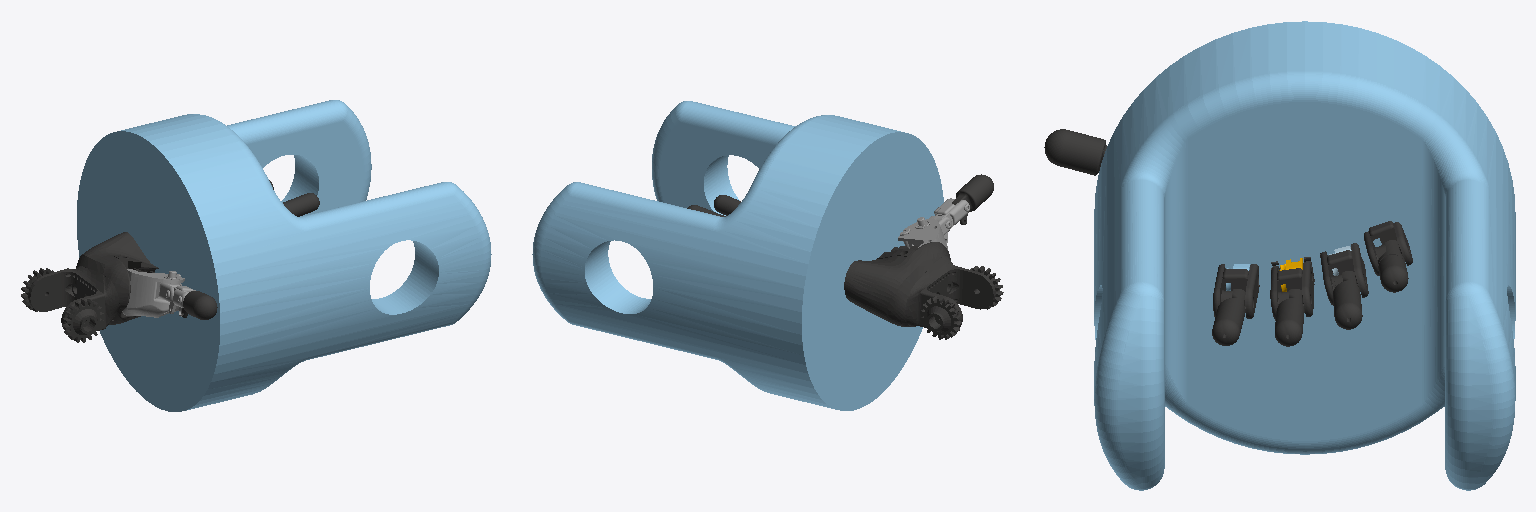
--- Facts derived from the render (not from the file) ---
The picture shows the robot from 3 angles, left to right: view 1: azimuth 30°, elevation 25°; view 2: azimuth 150°, elevation 25°; view 3: azimuth 270°, elevation 25°; orthographic projection.
Robot: [local-path]\Documents\NU robotics hand\hand teleop\hand_urdf — 20 links, 19 joints (19 revolute); root link base; default pose: all joints at 0.
Links seen in each view (by area): view 1: base, palm_solid, thumb_palm_section, thumb_tip, large_finger_tip; view 2: base, palm_solid, thumb_tip, thumb_palm_section, thumb_middle_2; view 3: base, thumb_tip, hand_v2_index_finger_tip_v1, large_finger_tip, hand_v2_middle_finger_tip_v1, hand_v2_index_finger_middle_v1, hand_v2_middle_finger_middle_v1, large_finger_middle, pinky_finger_tip, pinky_finger_middle.
Link boxes in pixels (x1=…): base: x1=77, y1=100, x2=491, y2=411; palm_solid: x1=21, y1=232, x2=158, y2=342; thumb_palm_section: x1=122, y1=269, x2=184, y2=317; thumb_tip: x1=182, y1=291, x2=217, y2=319; large_finger_tip: x1=283, y1=193, x2=319, y2=216; base: x1=532, y1=101, x2=943, y2=410; palm_solid: x1=844, y1=242, x2=1003, y2=339; thumb_tip: x1=952, y1=174, x2=993, y2=224; thumb_palm_section: x1=898, y1=219, x2=947, y2=249; thumb_middle_2: x1=933, y1=198, x2=969, y2=243; base: x1=1094, y1=21, x2=1515, y2=490; thumb_tip: x1=1044, y1=129, x2=1106, y2=175; hand_v2_index_finger_tip_v1: x1=1212, y1=289, x2=1245, y2=345; large_finger_tip: x1=1331, y1=271, x2=1362, y2=329; hand_v2_middle_finger_tip_v1: x1=1275, y1=289, x2=1304, y2=346; hand_v2_index_finger_middle_v1: x1=1213, y1=264, x2=1259, y2=318; hand_v2_middle_finger_middle_v1: x1=1270, y1=262, x2=1314, y2=320; large_finger_middle: x1=1320, y1=243, x2=1368, y2=304; pinky_finger_tip: x1=1374, y1=240, x2=1408, y2=292; pinky_finger_middle: x1=1364, y1=221, x2=1412, y2=275.
Size in the robot's own frame: 0.2771 by 0.2013 by 0.18 metres.
Meshes: 20 distinct files referenced, 19 mesh visuals loaded (19 binary STL); not drawn: 1 (reference not matched to a file when rendering).

The robot description file, URDF, robot "[local-path]\Documents\NU robotics hand\hand teleop\hand_urdf":
<?xml version="1.0" ?>
<!-- Generated using onshape-to-robot -->
<!-- Onshape https://cad.onshape.com/documents/435b824f8426b3b8f2a8a9e0/w/f13a2bb43b056c76b67cc2b3/e/86f1e349b89a5f0b7c9e231f -->
<robot name="[local-path]\Documents\NU robotics hand\hand teleop\hand_urdf">
  <!-- Link base -->
  <link name="base">
    <inertial>
      <origin xyz="0 0 0" rpy="0 0 0"/>
      <mass value="1e-09"/>
      <inertia ixx="1e-09" ixy="0" ixz="0" iyy="1e-09" iyz="0" izz="1e-09"/>
    </inertial>
    <!-- Part base -->
    <visual>
      <origin xyz="0.0161891 0.00137668 0.00812779" rpy="-3.42121e-30 1.60982e-15 -1.5708"/>
      <geometry>
        <mesh filename="package://assets\base.stl"/>
      </geometry>
      <material name="base_material">
        <color rgba="0.615686 0.811765 0.929412 1"/>
      </material>
    </visual>
    <collision>
      <origin xyz="0.0161891 0.00137668 0.00812779" rpy="-3.42121e-30 1.60982e-15 -1.5708"/>
      <geometry>
        <mesh filename="package://assets\base.stl"/>
      </geometry>
    </collision>
  </link>
  <!-- Link intermediate_link -->
  <link name="intermediate_link">
    <inertial>
      <origin xyz="0 0 0" rpy="0 0 0"/>
      <mass value="1e-09"/>
      <inertia ixx="1e-09" ixy="0" ixz="0" iyy="1e-09" iyz="0" izz="1e-09"/>
    </inertial>
    <!-- Part intermediate_link -->
    <visual>
      <origin xyz="0.0682324 -0.00935237 0.0358367" rpy="1.58872 1.5708 0"/>
      <geometry>
        <mesh filename="package://assets\intermediate_link.stl"/>
      </geometry>
      <material name="intermediate_link_material">
        <color rgba="0.980392 0.713725 0.00392157 1"/>
      </material>
    </visual>
    <collision>
      <origin xyz="0.0682324 -0.00935237 0.0358367" rpy="1.58872 1.5708 0"/>
      <geometry>
        <mesh filename="package://assets\intermediate_link.stl"/>
      </geometry>
    </collision>
  </link>
  <!-- Link palm_solid -->
  <link name="palm_solid">
    <inertial>
      <origin xyz="0 0 0" rpy="0 0 0"/>
      <mass value="1e-09"/>
      <inertia ixx="1e-09" ixy="0" ixz="0" iyy="1e-09" iyz="0" izz="1e-09"/>
    </inertial>
    <!-- Part palm_solid -->
    <visual>
      <origin xyz="0.0430364 0.00890065 -0.0355367" rpy="-1.55287 -1.5708 0"/>
      <geometry>
        <mesh filename="package://assets\palm_solid.stl"/>
      </geometry>
      <material name="palm_solid_material">
        <color rgba="0.27451 0.270588 0.266667 1"/>
      </material>
    </visual>
    <collision>
      <origin xyz="0.0430364 0.00890065 -0.0355367" rpy="-1.55287 -1.5708 0"/>
      <geometry>
        <mesh filename="package://assets\palm_solid.stl"/>
      </geometry>
    </collision>
  </link>
  <!-- Link thumb_intermediate_v1 -->
  <link name="thumb_intermediate_v1">
    <inertial>
      <origin xyz="0 0 0" rpy="0 0 0"/>
      <mass value="1e-09"/>
      <inertia ixx="1e-09" ixy="0" ixz="0" iyy="1e-09" iyz="0" izz="1e-09"/>
    </inertial>
    <!-- Part thumb_intermediate_v1 -->
    <visual>
      <origin xyz="-0.00989613 -0.00238569 0.000259753" rpy="-1.31743 0.17263 7.86009e-18"/>
      <geometry>
        <mesh filename="package://assets\thumb_intermediate_v1.stl"/>
      </geometry>
      <material name="thumb_intermediate_v1_material">
        <color rgba="0.27451 0.270588 0.266667 1"/>
      </material>
    </visual>
    <collision>
      <origin xyz="-0.00989613 -0.00238569 0.000259753" rpy="-1.31743 0.17263 7.86009e-18"/>
      <geometry>
        <mesh filename="package://assets\thumb_intermediate_v1.stl"/>
      </geometry>
    </collision>
  </link>
  <!-- Link thumb_palm_section -->
  <link name="thumb_palm_section">
    <inertial>
      <origin xyz="0 0 0" rpy="0 0 0"/>
      <mass value="1e-09"/>
      <inertia ixx="1e-09" ixy="0" ixz="0" iyy="1e-09" iyz="0" izz="1e-09"/>
    </inertial>
    <!-- Part thumb_palm_section -->
    <visual>
      <origin xyz="-0.0217843 0.00434121 0.000740247" rpy="1.82417 -0.17263 -1.26524e-17"/>
      <geometry>
        <mesh filename="package://assets\thumb_palm_section.stl"/>
      </geometry>
      <material name="thumb_palm_section_material">
        <color rgba="0.627451 0.627451 0.627451 1"/>
      </material>
    </visual>
    <collision>
      <origin xyz="-0.0217843 0.00434121 0.000740247" rpy="1.82417 -0.17263 -1.26524e-17"/>
      <geometry>
        <mesh filename="package://assets\thumb_palm_section.stl"/>
      </geometry>
    </collision>
  </link>
  <!-- Link thumb_middle -->
  <link name="thumb_middle">
    <inertial>
      <origin xyz="0 0 0" rpy="0 0 0"/>
      <mass value="1e-09"/>
      <inertia ixx="1e-09" ixy="0" ixz="0" iyy="1e-09" iyz="0" izz="1e-09"/>
    </inertial>
    <!-- Part thumb_middle -->
    <visual>
      <origin xyz="-0.0477856 -0.00705829 -0.00679029" rpy="0.273385 0.114287 1.41009e-17"/>
      <geometry>
        <mesh filename="package://assets\thumb_middle.stl"/>
      </geometry>
      <material name="thumb_middle_material">
        <color rgba="0.627451 0.627451 0.627451 1"/>
      </material>
    </visual>
    <collision>
      <origin xyz="-0.0477856 -0.00705829 -0.00679029" rpy="0.273385 0.114287 1.41009e-17"/>
      <geometry>
        <mesh filename="package://assets\thumb_middle.stl"/>
      </geometry>
    </collision>
  </link>
  <!-- Link thumb_middle_2 -->
  <link name="thumb_middle_2">
    <inertial>
      <origin xyz="0 0 0" rpy="0 0 0"/>
      <mass value="1e-09"/>
      <inertia ixx="1e-09" ixy="0" ixz="0" iyy="1e-09" iyz="0" izz="1e-09"/>
    </inertial>
    <!-- Part thumb_middle_2 -->
    <visual>
      <origin xyz="-0.0592938 -0.00820927 0.0104142" rpy="-1.31743 0.17263 -1.14344e-17"/>
      <geometry>
        <mesh filename="package://assets\thumb_middle__2.stl"/>
      </geometry>
      <material name="thumb_middle_2_material">
        <color rgba="0.647059 0.647059 0.647059 1"/>
      </material>
    </visual>
    <collision>
      <origin xyz="-0.0592938 -0.00820927 0.0104142" rpy="-1.31743 0.17263 -1.14344e-17"/>
      <geometry>
        <mesh filename="package://assets\thumb_middle__2.stl"/>
      </geometry>
    </collision>
  </link>
  <!-- Link thumb_tip -->
  <link name="thumb_tip">
    <inertial>
      <origin xyz="0 0 0" rpy="0 0 0"/>
      <mass value="1e-09"/>
      <inertia ixx="1e-09" ixy="0" ixz="0" iyy="1e-09" iyz="0" izz="1e-09"/>
    </inertial>
    <!-- Part thumb_tip -->
    <visual>
      <origin xyz="-0.0791251 -0.0108018 0.0122142" rpy="-1.31743 0.17263 -1.92026e-17"/>
      <geometry>
        <mesh filename="package://assets\thumb_tip.stl"/>
      </geometry>
      <material name="thumb_tip_material">
        <color rgba="0.27451 0.270588 0.266667 1"/>
      </material>
    </visual>
    <collision>
      <origin xyz="-0.0791251 -0.0108018 0.0122142" rpy="-1.31743 0.17263 -1.92026e-17"/>
      <geometry>
        <mesh filename="package://assets\thumb_tip.stl"/>
      </geometry>
    </collision>
  </link>
  <!-- Joint from thumb_middle_2 to thumb_tip -->
  <joint name="thumb_4" type="revolute">
    <origin xyz="0.0198655 0.00231518 -0.00175" rpy="7.41283e-15 -1.59703e-14 -1.60298e-15"/>
    <parent link="thumb_middle_2"/>
    <child link="thumb_tip"/>
    <axis xyz="0 0 1"/>
    <limit effort="10" velocity="10" lower="0" upper="1.5708"/>
  </joint>
  <!-- Joint from thumb_middle to thumb_middle_2 -->
  <joint name="thumb_3" type="revolute">
    <origin xyz="0.0128901 -0.0075423 -0.0055" rpy="1.5708 0.115493 -0.173775"/>
    <parent link="thumb_middle"/>
    <child link="thumb_middle_2"/>
    <axis xyz="0 0 1"/>
    <limit effort="10" velocity="10" lower="-0.000526075" upper="1.57027"/>
  </joint>
  <!-- Joint from thumb_palm_section to thumb_middle -->
  <joint name="thumb_abd" type="revolute">
    <origin xyz="0.0230132 -0.00731315 0.0159544" rpy="1.5708 -0.174152 -0.116019"/>
    <parent link="thumb_palm_section"/>
    <child link="thumb_middle"/>
    <axis xyz="0 0 1"/>
    <limit effort="10" velocity="10" lower="-1.57117" upper="0.174156"/>
  </joint>
  <!-- Joint from thumb_intermediate_v1 to thumb_palm_section -->
  <joint name="thumb_2" type="revolute">
    <origin xyz="0.0118882 0.00195552 6.93889e-18" rpy="-3.14159 2.56139e-15 0.0328482"/>
    <parent link="thumb_intermediate_v1"/>
    <child link="thumb_palm_section"/>
    <axis xyz="0 0 1"/>
    <limit effort="10" velocity="10" lower="-3.141592653589793" upper="3.141592653589793"/>
    <mimic joint="thumb_1" multiplier="-1.0"/>
  </joint>
  <!-- Joint from palm_solid to thumb_intermediate_v1 -->
  <joint name="thumb_1" type="revolute">
    <origin xyz="0.0413225 0.0120631 -0.0257823" rpy="-2.95542 -1.3951 2.71713"/>
    <parent link="palm_solid"/>
    <child link="thumb_intermediate_v1"/>
    <axis xyz="0 0 1"/>
    <limit effort="10" velocity="10" lower="-0.0328482" upper="0.75255"/>
  </joint>
  <!-- Link finger_intermediate -->
  <link name="finger_intermediate">
    <inertial>
      <origin xyz="0 0 0" rpy="0 0 0"/>
      <mass value="1e-09"/>
      <inertia ixx="1e-09" ixy="0" ixz="0" iyy="1e-09" iyz="0" izz="1e-09"/>
    </inertial>
    <!-- Part finger_intermediate -->
    <visual>
      <origin xyz="0.0164705 -0.0600499 -0.0337993" rpy="-0.25043 1.21142 -2.77186e-17"/>
      <geometry>
        <mesh filename="package://assets\finger_intermediate.stl"/>
      </geometry>
      <material name="finger_intermediate_material">
        <color rgba="0.231373 0.380392 0.705882 1"/>
      </material>
    </visual>
    <collision>
      <origin xyz="0.0164705 -0.0600499 -0.0337993" rpy="-0.25043 1.21142 -2.77186e-17"/>
      <geometry>
        <mesh filename="package://assets\finger_intermediate.stl"/>
      </geometry>
    </collision>
  </link>
  <!-- Link pinky_finger_middle -->
  <link name="pinky_finger_middle">
    <inertial>
      <origin xyz="0 0 0" rpy="0 0 0"/>
      <mass value="1e-09"/>
      <inertia ixx="1e-09" ixy="0" ixz="0" iyy="1e-09" iyz="0" izz="1e-09"/>
    </inertial>
    <!-- Part pinky_finger_middle -->
    <visual>
      <origin xyz="0.0196463 0.0716718 0.0337993" rpy="2.89116 -1.21142 -5.65583e-17"/>
      <geometry>
        <mesh filename="package://assets\pinky_finger_middle.stl"/>
      </geometry>
      <material name="pinky_finger_middle_material">
        <color rgba="0.27451 0.270588 0.266667 1"/>
      </material>
    </visual>
    <collision>
      <origin xyz="0.0196463 0.0716718 0.0337993" rpy="2.89116 -1.21142 -5.65583e-17"/>
      <geometry>
        <mesh filename="package://assets\pinky_finger_middle.stl"/>
      </geometry>
    </collision>
  </link>
  <!-- Link pinky_finger_tip -->
  <link name="pinky_finger_tip">
    <inertial>
      <origin xyz="0 0 0" rpy="0 0 0"/>
      <mass value="1e-09"/>
      <inertia ixx="1e-09" ixy="0" ixz="0" iyy="1e-09" iyz="0" izz="1e-09"/>
    </inertial>
    <!-- Part pinky_finger_tip -->
    <visual>
      <origin xyz="0.0262361 -0.0957876 -0.0337993" rpy="-0.25043 1.21142 -4.25333e-17"/>
      <geometry>
        <mesh filename="package://assets\pinky_finger_tip.stl"/>
      </geometry>
      <material name="pinky_finger_tip_material">
        <color rgba="0.27451 0.270588 0.266667 1"/>
      </material>
    </visual>
    <collision>
      <origin xyz="0.0262361 -0.0957876 -0.0337993" rpy="-0.25043 1.21142 -4.25333e-17"/>
      <geometry>
        <mesh filename="package://assets\pinky_finger_tip.stl"/>
      </geometry>
    </collision>
  </link>
  <!-- Joint from pinky_finger_middle to pinky_finger_tip -->
  <joint name="pinky_3" type="revolute">
    <origin xyz="-0.00658981 -0.0241159 4.16334e-17" rpy="-3.14159 3.69465e-16 0.0790727"/>
    <parent link="pinky_finger_middle"/>
    <child link="pinky_finger_tip"/>
    <axis xyz="0 0 1"/>
    <limit effort="10" velocity="10" lower="-1.84079" upper="0.0790727"/>
  </joint>
  <!-- Joint from finger_intermediate to pinky_finger_middle -->
  <joint name="pinky_2" type="revolute">
    <origin xyz="-0.00317575 0.0116219 -4.16334e-17" rpy="-3.14159 4.813e-16 -1.01983e-17"/>
    <parent link="finger_intermediate"/>
    <child link="pinky_finger_middle"/>
    <axis xyz="0 0 1"/>
    <limit effort="10" velocity="10" lower="-3.01981e-14" upper="0.785398"/>
    <mimic joint="pinky_1" multiplier="-1.0"/>
  </joint>
  <!-- Joint from palm_solid to finger_intermediate -->
  <joint name="pinky_1" type="revolute">
    <origin xyz="0.101782 0.0211417 -0.0731018" rpy="-3.14159 -0.359375 1.83915"/>
    <parent link="palm_solid"/>
    <child link="finger_intermediate"/>
    <axis xyz="0 0 1"/>
    <limit effort="10" velocity="10" lower="-0.785398" upper="3.01981e-14"/>
  </joint>
  <!-- Link index_finger_intermediate -->
  <link name="index_finger_intermediate">
    <inertial>
      <origin xyz="0 0 0" rpy="0 0 0"/>
      <mass value="1e-09"/>
      <inertia ixx="1e-09" ixy="0" ixz="0" iyy="1e-09" iyz="0" izz="1e-09"/>
    </inertial>
    <!-- Part index_finger_intermediate -->
    <visual>
      <origin xyz="-0.0611244 -0.0420268 0.0174182" rpy="1.04885 1.48361 1.07074e-16"/>
      <geometry>
        <mesh filename="package://assets\index_finger_intermediate.stl"/>
      </geometry>
      <material name="index_finger_intermediate_material">
        <color rgba="0.615686 0.811765 0.929412 1"/>
      </material>
    </visual>
    <collision>
      <origin xyz="-0.0611244 -0.0420268 0.0174182" rpy="1.04885 1.48361 1.07074e-16"/>
      <geometry>
        <mesh filename="package://assets\index_finger_intermediate.stl"/>
      </geometry>
    </collision>
  </link>
  <!-- Link hand_v2_index_finger_middle_v1 -->
  <link name="hand_v2_index_finger_middle_v1">
    <inertial>
      <origin xyz="0 0 0" rpy="0 0 0"/>
      <mass value="1e-09"/>
      <inertia ixx="1e-09" ixy="0" ixz="0" iyy="1e-09" iyz="0" izz="1e-09"/>
    </inertial>
    <!-- Part hand_v2_index_finger_middle_v1 -->
    <visual>
      <origin xyz="-0.0715781 -0.0480165 0.0274182" rpy="1.04885 1.48361 1.69974e-16"/>
      <geometry>
        <mesh filename="package://assets\hand_v2_index_finger_middle_v1.stl"/>
      </geometry>
      <material name="hand_v2_index_finger_middle_v1_material">
        <color rgba="0.27451 0.270588 0.266667 1"/>
      </material>
    </visual>
    <collision>
      <origin xyz="-0.0715781 -0.0480165 0.0274182" rpy="1.04885 1.48361 1.69974e-16"/>
      <geometry>
        <mesh filename="package://assets\hand_v2_index_finger_middle_v1.stl"/>
      </geometry>
    </collision>
  </link>
  <!-- Link hand_v2_index_finger_tip_v1 -->
  <link name="hand_v2_index_finger_tip_v1">
    <inertial>
      <origin xyz="0 0 0" rpy="0 0 0"/>
      <mass value="1e-09"/>
      <inertia ixx="1e-09" ixy="0" ixz="0" iyy="1e-09" iyz="0" izz="1e-09"/>
    </inertial>
    <!-- Part hand_v2_index_finger_tip_v1 -->
    <visual>
      <origin xyz="-0.0932697 0.0604451 -0.0274182" rpy="-2.09275 -1.48361 -1.68817e-17"/>
      <geometry>
        <mesh filename="package://assets\hand_v2_index_finger_tip_v1.stl"/>
      </geometry>
      <material name="hand_v2_index_finger_tip_v1_material">
        <color rgba="0.27451 0.270588 0.266667 1"/>
      </material>
    </visual>
    <collision>
      <origin xyz="-0.0932697 0.0604451 -0.0274182" rpy="-2.09275 -1.48361 -1.68817e-17"/>
      <geometry>
        <mesh filename="package://assets\hand_v2_index_finger_tip_v1.stl"/>
      </geometry>
    </collision>
  </link>
  <!-- Joint from hand_v2_index_finger_middle_v1 to hand_v2_index_finger_tip_v1 -->
  <joint name="index_3" type="revolute">
    <origin xyz="0.0216917 0.0124287 -7.28584e-17" rpy="3.14159 -3.2256e-16 -0.0841501"/>
    <parent link="hand_v2_index_finger_middle_v1"/>
    <child link="hand_v2_index_finger_tip_v1"/>
    <axis xyz="0 0 1"/>
    <limit effort="10" velocity="10" lower="-0.0841501" upper="1.83571"/>
  </joint>
  <!-- Joint from index_finger_intermediate to hand_v2_index_finger_middle_v1 -->
  <joint name="index_2" type="revolute">
    <origin xyz="0.0104536 0.00598961 -0.01" rpy="2.83784e-15 3.4643e-16 3.21483e-17"/>
    <parent link="index_finger_intermediate"/>
    <child link="hand_v2_index_finger_middle_v1"/>
    <axis xyz="0 0 1"/>
    <limit effort="10" velocity="10" lower="-0.785398" upper="1.24345e-14"/>
    <mimic joint="index_1" multiplier="1.0"/>
  </joint>
  <!-- Joint from palm_solid to index_finger_intermediate -->
  <joint name="index_1" type="revolute">
    <origin xyz="0.115479 0.00309608 -0.0129949" rpy="-3.14159 -0.0871834 0.539876"/>
    <parent link="palm_solid"/>
    <child link="index_finger_intermediate"/>
    <axis xyz="0 0 1"/>
    <limit effort="10" velocity="10" lower="-0.785398" upper="1.24345e-14"/>
  </joint>
  <!-- Link middle_finger_intermediate -->
  <link name="middle_finger_intermediate">
    <inertial>
      <origin xyz="0 0 0" rpy="0 0 0"/>
      <mass value="1e-09"/>
      <inertia ixx="1e-09" ixy="0" ixz="0" iyy="1e-09" iyz="0" izz="1e-09"/>
    </inertial>
    <!-- Part middle_finger_intermediate -->
    <visual>
      <origin xyz="-0.00399892 -0.0775232 -0.000461794" rpy="0.103486 1.41091 1.13575e-17"/>
      <geometry>
        <mesh filename="package://assets\middle_finger_intermediate.stl"/>
      </geometry>
      <material name="middle_finger_intermediate_material">
        <color rgba="0.980392 0.713725 0.00392157 1"/>
      </material>
    </visual>
    <collision>
      <origin xyz="-0.00399892 -0.0775232 -0.000461794" rpy="0.103486 1.41091 1.13575e-17"/>
      <geometry>
        <mesh filename="package://assets\middle_finger_intermediate.stl"/>
      </geometry>
    </collision>
  </link>
  <!-- Link hand_v2_middle_finger_middle_v1 -->
  <link name="hand_v2_middle_finger_middle_v1">
    <inertial>
      <origin xyz="0 0 0" rpy="0 0 0"/>
      <mass value="1e-09"/>
      <inertia ixx="1e-09" ixy="0" ixz="0" iyy="1e-09" iyz="0" izz="1e-09"/>
    </inertial>
    <!-- Part hand_v2_middle_finger_middle_v1 -->
    <visual>
      <origin xyz="-0.00525939 0.0895051 0.000461794" rpy="-3.03811 -1.41091 -2.0422e-17"/>
      <geometry>
        <mesh filename="package://assets\hand_v2_middle_finger_middle_v1.stl"/>
      </geometry>
      <material name="hand_v2_middle_finger_middle_v1_material">
        <color rgba="0.27451 0.270588 0.266667 1"/>
      </material>
    </visual>
    <collision>
      <origin xyz="-0.00525939 0.0895051 0.000461794" rpy="-3.03811 -1.41091 -2.0422e-17"/>
      <geometry>
        <mesh filename="package://assets\hand_v2_middle_finger_middle_v1.stl"/>
      </geometry>
    </collision>
  </link>
  <!-- Link hand_v2_middle_finger_tip_v1 -->
  <link name="hand_v2_middle_finger_tip_v1">
    <inertial>
      <origin xyz="0 0 0" rpy="0 0 0"/>
      <mass value="1e-09"/>
      <inertia ixx="1e-09" ixy="0" ixz="0" iyy="1e-09" iyz="0" izz="1e-09"/>
    </inertial>
    <!-- Part hand_v2_middle_finger_tip_v1 -->
    <visual>
      <origin xyz="-0.00787492 0.114368 -0.00953821" rpy="-3.03811 -1.41091 -1.37011e-17"/>
      <geometry>
        <mesh filename="package://assets\hand_v2_middle_finger_tip_v1.stl"/>
      </geometry>
      <material name="hand_v2_middle_finger_tip_v1_material">
        <color rgba="0.27451 0.270588 0.266667 1"/>
      </material>
    </visual>
    <collision>
      <origin xyz="-0.00787492 0.114368 -0.00953821" rpy="-3.03811 -1.41091 -1.37011e-17"/>
      <geometry>
        <mesh filename="package://assets\hand_v2_middle_finger_tip_v1.stl"/>
      </geometry>
    </collision>
  </link>
  <!-- Joint from hand_v2_middle_finger_middle_v1 to hand_v2_middle_finger_tip_v1 -->
  <joint name="middle_3" type="revolute">
    <origin xyz="0.00261552 -0.0248628 0.01" rpy="-3.60087e-15 1.21213e-14 0.0833933"/>
    <parent link="hand_v2_middle_finger_middle_v1"/>
    <child link="hand_v2_middle_finger_tip_v1"/>
    <axis xyz="0 0 1"/>
    <limit effort="10" velocity="10" lower="-0.0833933" upper="1.83647"/>
  </joint>
  <!-- Joint from middle_finger_intermediate to hand_v2_middle_finger_middle_v1 -->
  <joint name="middle_2" type="revolute">
    <origin xyz="0.00126047 0.0119819 8.67362e-19" rpy="-3.14159 -5.20288e-15 -1.81407e-17"/>
    <parent link="middle_finger_intermediate"/>
    <child link="hand_v2_middle_finger_middle_v1"/>
    <axis xyz="0 0 1"/>
    <limit effort="10" velocity="10" lower="-3.55271e-15" upper="0.785398"/>
  </joint>
  <!-- Joint from palm_solid to middle_finger_intermediate -->
  <joint name="middle_1" type="revolute">
    <origin xyz="0.120528 0.00600672 -0.0354885" rpy="-3.14159 -0.159882 1.48524"/>
    <parent link="palm_solid"/>
    <child link="middle_finger_intermediate"/>
    <axis xyz="0 0 1"/>
    <limit effort="10" velocity="10" lower="-0.785398" upper="3.55271e-15"/>
    <mimic joint="middle_2" multiplier="-1.0"/>
  </joint>
  <!-- Link ring_finger_intermediate -->
  <link name="ring_finger_intermediate">
    <inertial>
      <origin xyz="0 0 0" rpy="0 0 0"/>
      <mass value="1e-09"/>
      <inertia ixx="1e-09" ixy="0" ixz="0" iyy="1e-09" iyz="0" izz="1e-09"/>
    </inertial>
    <!-- Part ring_finger_intermediate -->
    <visual>
      <origin xyz="0.0163093 -0.0699225 -0.01635" rpy="-0.184188 1.2871 -2.89869e-17"/>
      <geometry>
        <mesh filename="package://assets\ring_finger_intermediate.stl"/>
      </geometry>
      <material name="ring_finger_intermediate_material">
        <color rgba="0.768627 0.886275 0.952941 1"/>
      </material>
    </visual>
    <collision>
      <origin xyz="0.0163093 -0.0699225 -0.01635" rpy="-0.184188 1.2871 -2.89869e-17"/>
      <geometry>
        <mesh filename="package://assets\ring_finger_intermediate.stl"/>
      </geometry>
    </collision>
  </link>
  <!-- Link large_finger_middle -->
  <link name="large_finger_middle">
    <inertial>
      <origin xyz="0 0 0" rpy="0 0 0"/>
      <mass value="1e-09"/>
      <inertia ixx="1e-09" ixy="0" ixz="0" iyy="1e-09" iyz="0" izz="1e-09"/>
    </inertial>
    <!-- Part large_finger_middle -->
    <visual>
      <origin xyz="0.0186045 0.0817499 0.01635" rpy="2.9574 -1.2871 -4.88283e-17"/>
      <geometry>
        <mesh filename="package://assets\large_finger_middle.stl"/>
      </geometry>
      <material name="large_finger_middle_material">
        <color rgba="0.27451 0.270588 0.266667 1"/>
      </material>
    </visual>
    <collision>
      <origin xyz="0.0186045 0.0817499 0.01635" rpy="2.9574 -1.2871 -4.88283e-17"/>
      <geometry>
        <mesh filename="package://assets\large_finger_middle.stl"/>
      </geometry>
    </collision>
  </link>
  <!-- Link large_finger_tip -->
  <link name="large_finger_tip">
    <inertial>
      <origin xyz="0 0 0" rpy="0 0 0"/>
      <mass value="1e-09"/>
      <inertia ixx="1e-09" ixy="0" ixz="0" iyy="1e-09" iyz="0" izz="1e-09"/>
    </inertial>
    <!-- Part large_finger_tip -->
    <visual>
      <origin xyz="0.023367 0.106292 0.00635002" rpy="2.9574 -1.2871 5.2413e-17"/>
      <geometry>
        <mesh filename="package://assets\large_finger_tip.stl"/>
      </geometry>
      <material name="large_finger_tip_material">
        <color rgba="0.27451 0.270588 0.266667 1"/>
      </material>
    </visual>
    <collision>
      <origin xyz="0.023367 0.106292 0.00635002" rpy="2.9574 -1.2871 5.2413e-17"/>
      <geometry>
        <mesh filename="package://assets\large_finger_tip.stl"/>
      </geometry>
    </collision>
  </link>
  <!-- Joint from large_finger_middle to large_finger_tip -->
  <joint name="ring_3" type="revolute">
    <origin xyz="-0.00476256 -0.0245422 0.01" rpy="2.90536e-16 3.7697e-16 0.0810933"/>
    <parent link="large_finger_middle"/>
    <child link="large_finger_tip"/>
    <axis xyz="0 0 1"/>
    <limit effort="10" velocity="10" lower="-0.0810933" upper="1.83877"/>
  </joint>
  <!-- Joint from ring_finger_intermediate to large_finger_middle -->
  <joint name="ring_2" type="revolute">
    <origin xyz="-0.00229517 0.0118273 2.08167e-17" rpy="3.14159 -7.59416e-15 -1.18635e-16"/>
    <parent link="ring_finger_intermediate"/>
    <child link="large_finger_middle"/>
    <axis xyz="0 0 1"/>
    <limit effort="10" velocity="10" lower="-2.57572e-14" upper="0.785398"/>
    <mimic joint="ring_1" multiplier="-1.0"/>
  </joint>
  <!-- Joint from palm_solid to ring_finger_intermediate -->
  <joint name="ring_1" type="revolute">
    <origin xyz="0.113668 0.0118056 -0.0559307" rpy="-3.14159 -0.283692 1.77291"/>
    <parent link="palm_solid"/>
    <child link="ring_finger_intermediate"/>
    <axis xyz="0 0 1"/>
    <limit effort="10" velocity="10" lower="-0.785398" upper="2.57572e-14"/>
  </joint>
  <!-- Joint from intermediate_link to palm_solid -->
  <joint name="wrist_2" type="revolute">
    <origin xyz="0.025196 -0.000451714 -1.80411e-16" rpy="-3.14159 4.29642e-17 -0.0179261"/>
    <parent link="intermediate_link"/>
    <child link="palm_solid"/>
    <axis xyz="0 0 1"/>
    <limit effort="10" velocity="10" lower="-0.803324" upper="0.767472"/>
    <mimic joint="wrist_1" multiplier="-1.0"/>
  </joint>
  <!-- Joint from base to intermediate_link -->
  <joint name="wrist_1" type="revolute">
    <origin xyz="-0.0522 -0.03416 5.96745e-16" rpy="-1.5708 3.42121e-30 1.18329e-30"/>
    <parent link="base"/>
    <child link="intermediate_link"/>
    <axis xyz="0 0 1"/>
    <limit effort="10" velocity="10" lower="-0.767472" upper="0.803324"/>
  </joint>
</robot>
